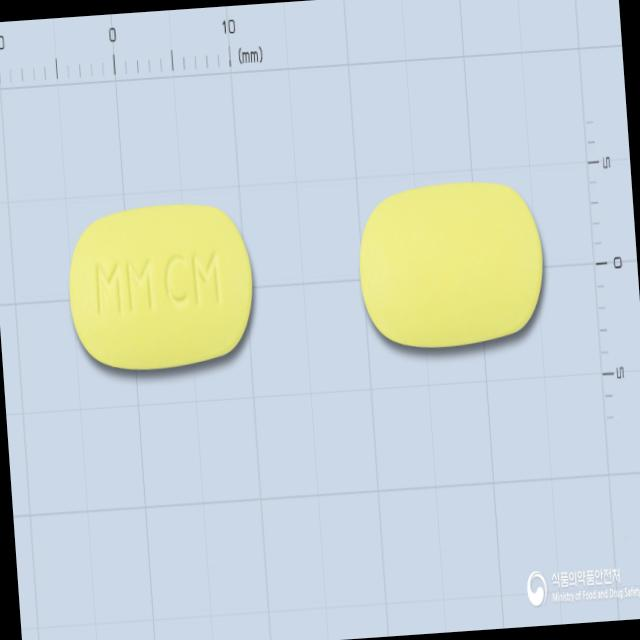Claricin - 250mg: (60, 192, 264, 379)
